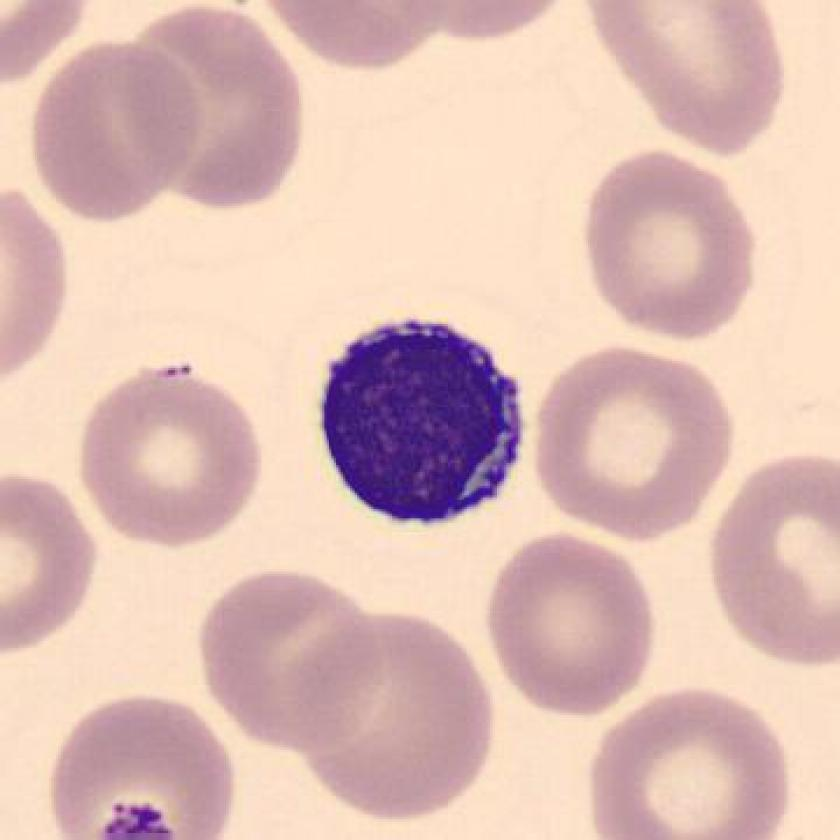lymphocyte: (304, 311, 540, 550)
